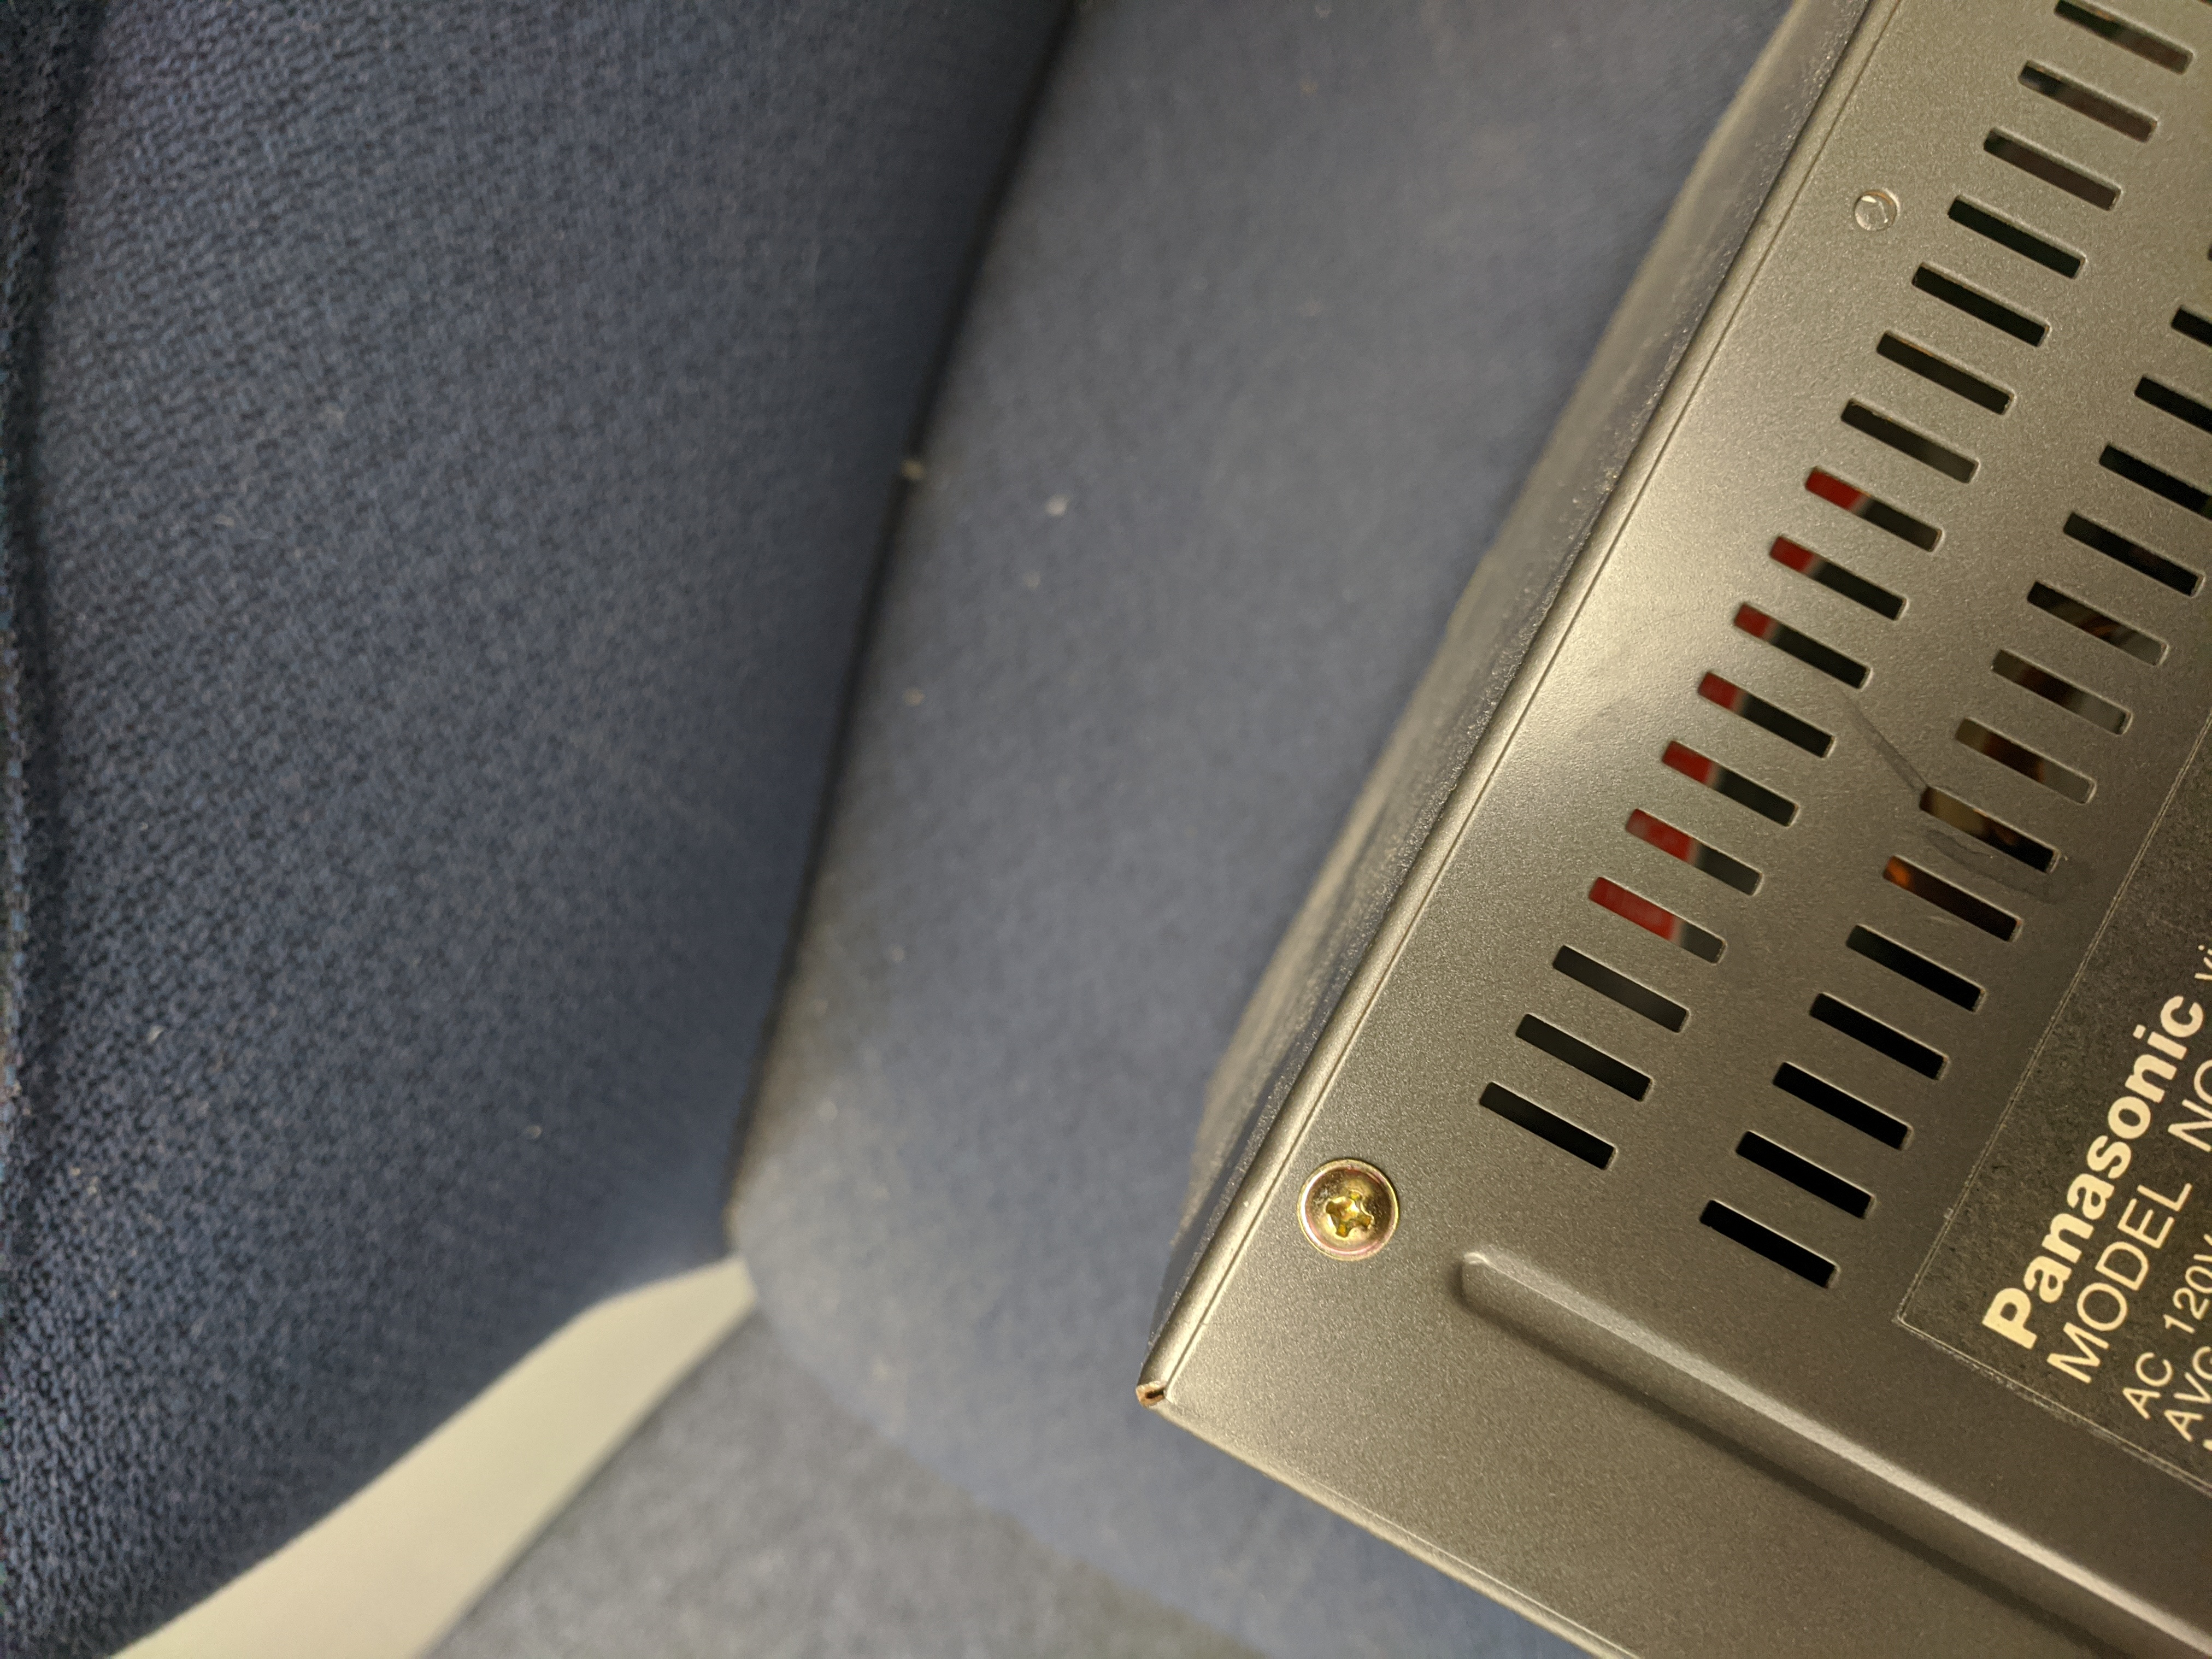cross_recessed_screw: (1298, 1152, 1400, 1263)
